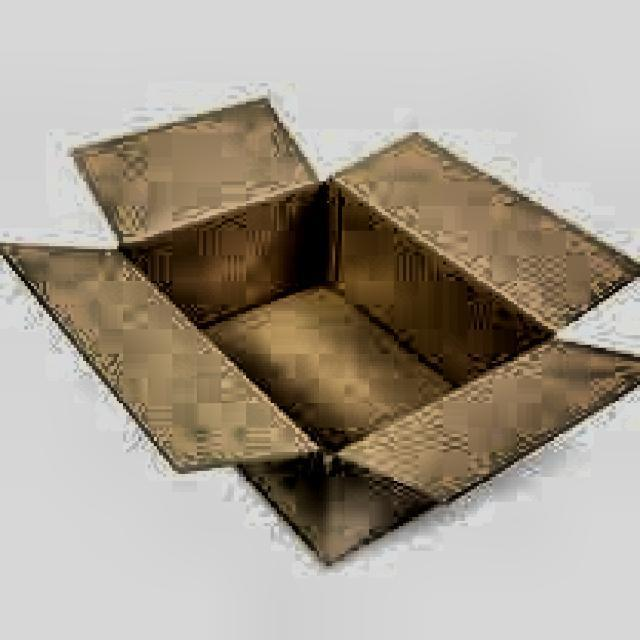cardboard: (0, 92, 640, 566)
